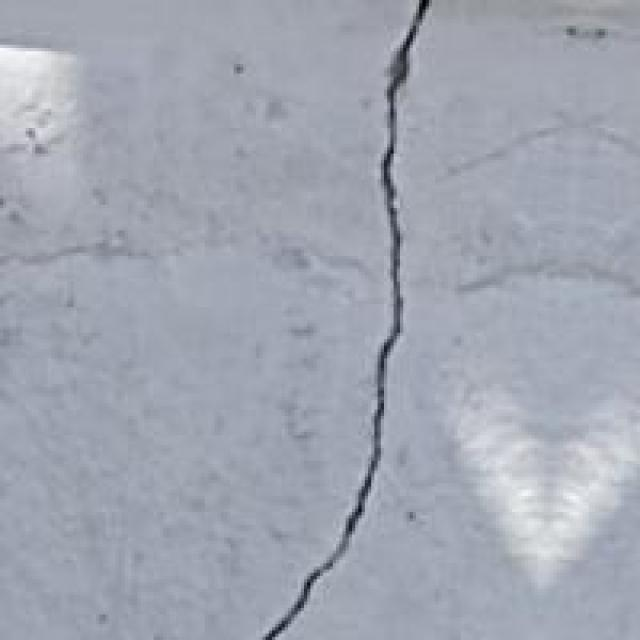crack: (256, 0, 458, 637)
